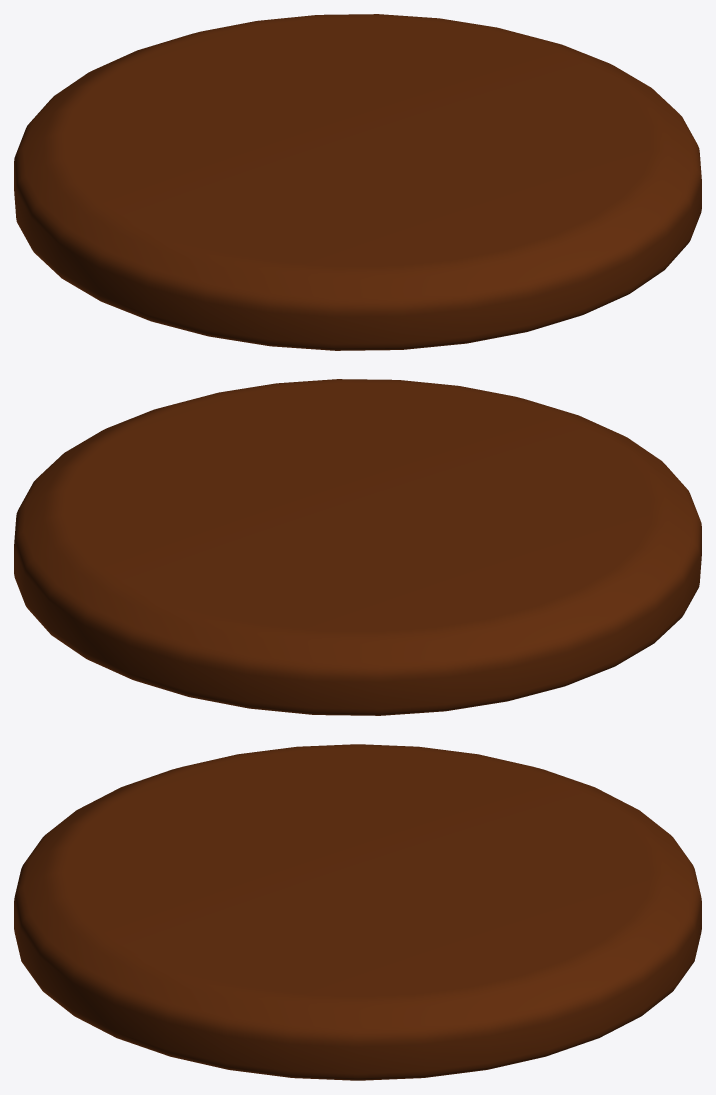
The model's file is Centr_mid.fbx.
3 renders of one model, top to bottom at view 1: azimuth 30°, elevation 25°; view 2: azimuth 150°, elevation 25°; view 3: azimuth 270°, elevation 25°, orthographic.
Parts seen in each view (by area): view 1: Centr_mid; view 2: Centr_mid; view 3: Centr_mid.
Boxes of the visible parts, x1,y1,x2,y2 form: Centr_mid: (14,14,701,350); Centr_mid: (14,379,701,715); Centr_mid: (14,744,701,1080).
Bounding box in the file's own units: 63.08 × 6.72 × 63.08.
